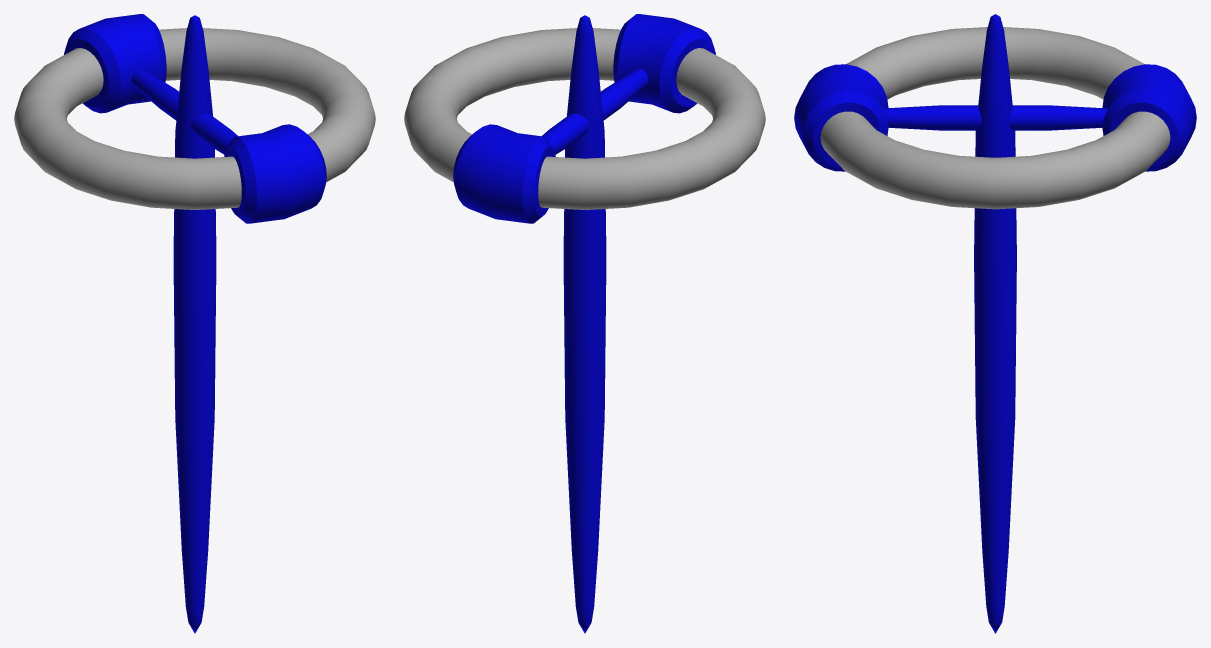
File: prop_needle.fbx
3 views of the same model, side by side, from view 1: azimuth 30°, elevation 25°; view 2: azimuth 150°, elevation 25°; view 3: azimuth 270°, elevation 25° (orthographic).
Visible parts, largest first — view 1: needle_2; view 2: needle_2; view 3: needle_2.
Boxes of the visible parts, <box> form: needle_2: <box>14,14,375,633</box>; needle_2: <box>404,14,765,633</box>; needle_2: <box>794,14,1196,633</box>.
Size of the model in its own units: 7 by 13.22 by 7.78.
